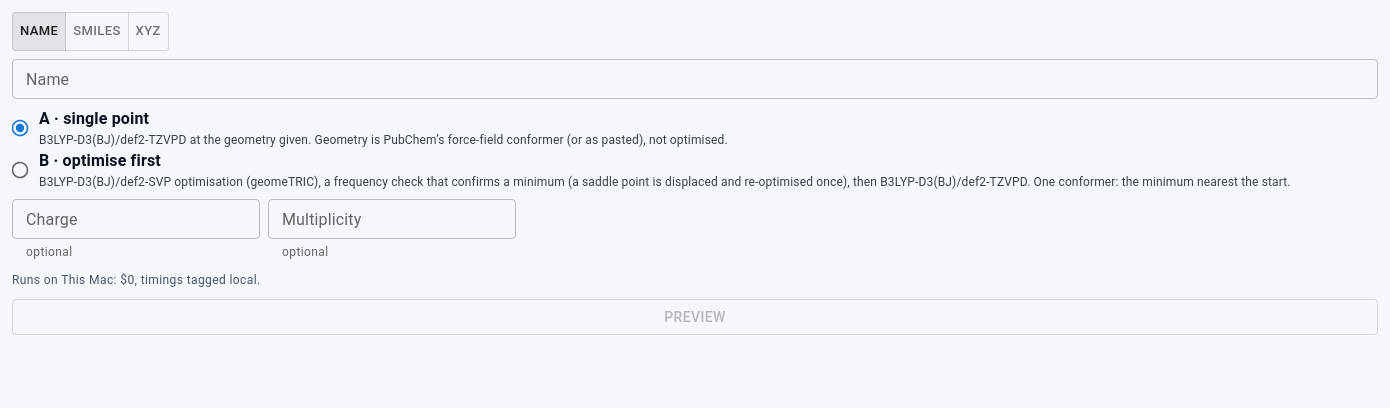
Test: previewing › shows the server's own message when nothing could be resolved
In the field named "molecule (Name)": (695, 79) top-left (12, 59), bottom-right (1378, 99), type "unobtainium"
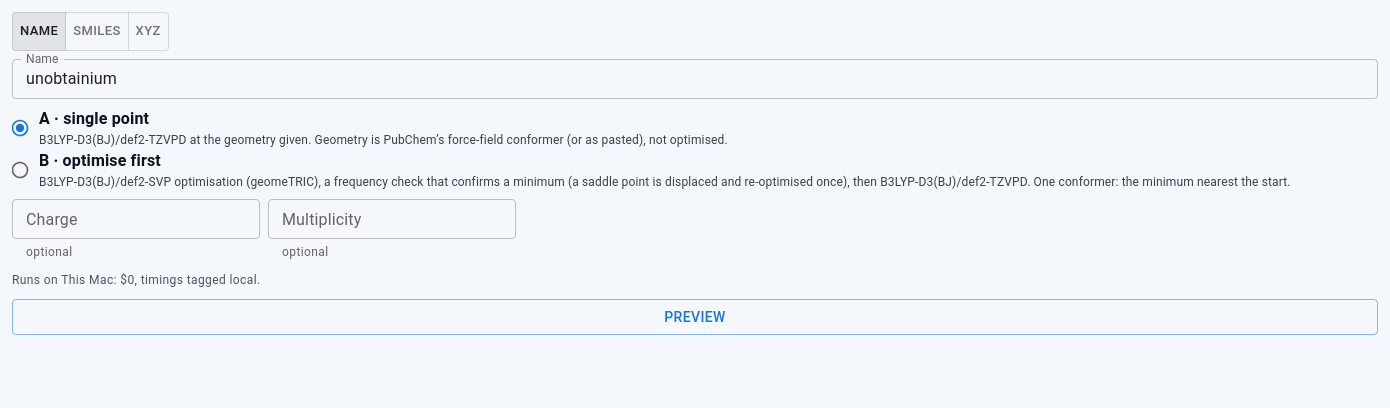
Click the button "Preview": (695, 317) top-left (12, 299), bottom-right (1378, 335)
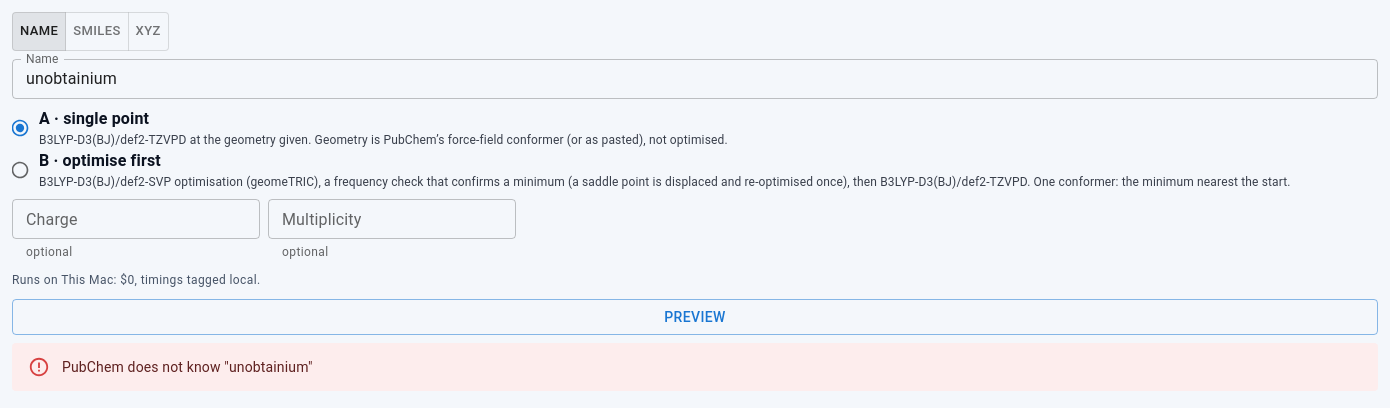
Result: the message reads "PubChem does not know \"unobtainium\"" at top-left (62, 359), bottom-right (312, 375)
